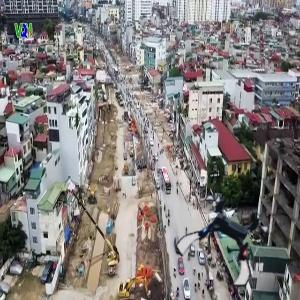drone: (185, 201, 269, 285)
